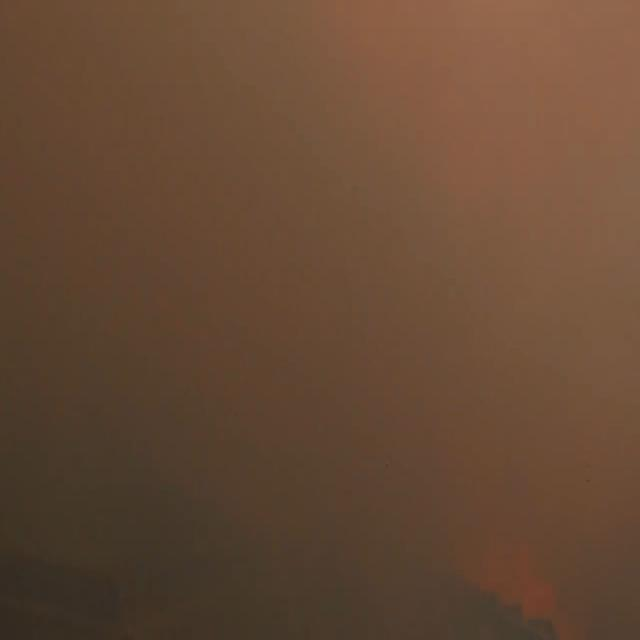Fire: (466, 543, 570, 634)
